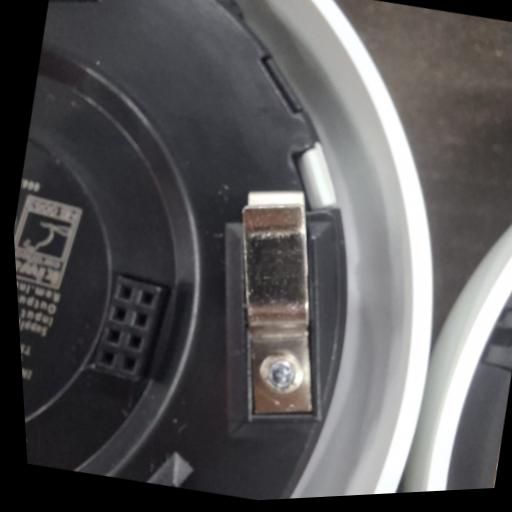yayli: (195, 179, 358, 430)
